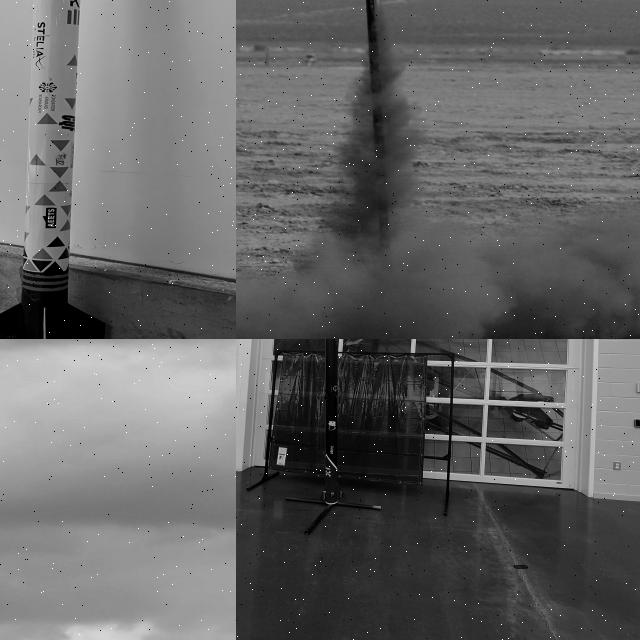Rocket: (0, 0, 106, 339), (319, 339, 345, 503)
